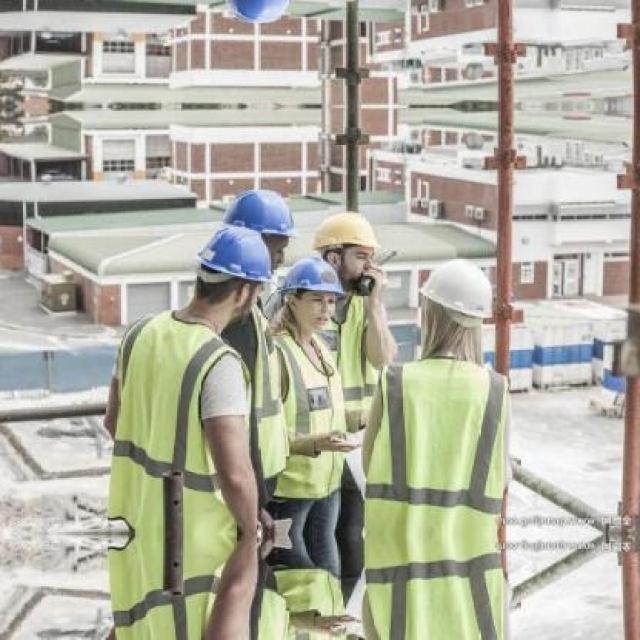Reflective-Jacket: (90, 309, 256, 535), (358, 353, 522, 532), (265, 328, 352, 508), (317, 290, 397, 443)
Safety-Helmet: (412, 250, 508, 333), (184, 222, 278, 292), (216, 182, 302, 245), (308, 207, 388, 259), (274, 253, 348, 302)
